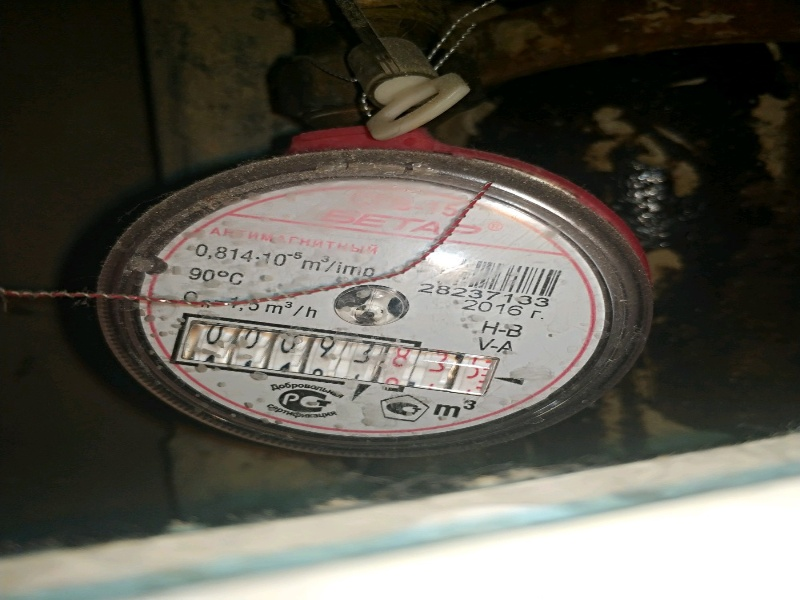meter: (181, 322, 482, 391)
